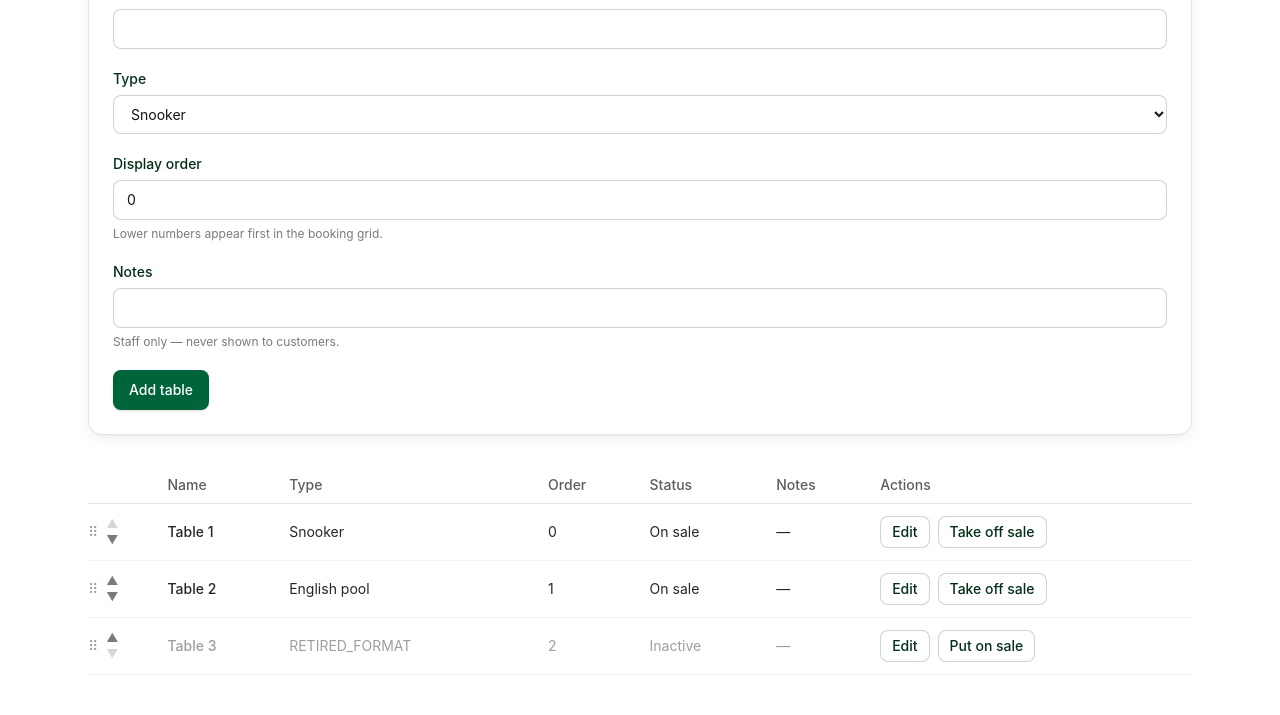
Scenario: AdminTablesPage › confirms that a new order was saved, not merely rearranged on screen
(page scrolled)
Click the button named "Move Table 1 down" at coordinates (112, 540), box top-left (102, 532), bottom-right (122, 548)
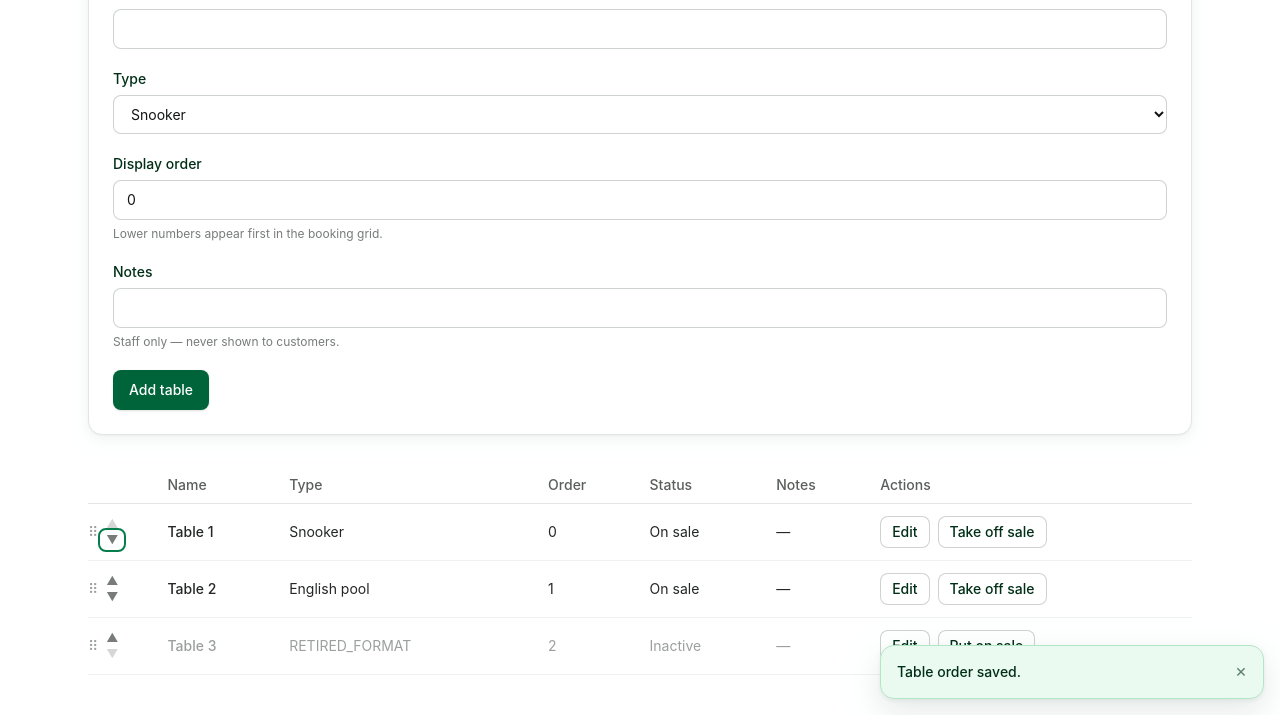
Expected: the message shows "Table order saved", top-left (897, 663), bottom-right (1021, 680)
